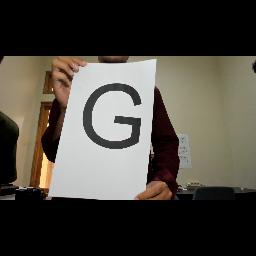g: (80, 80, 144, 156)
